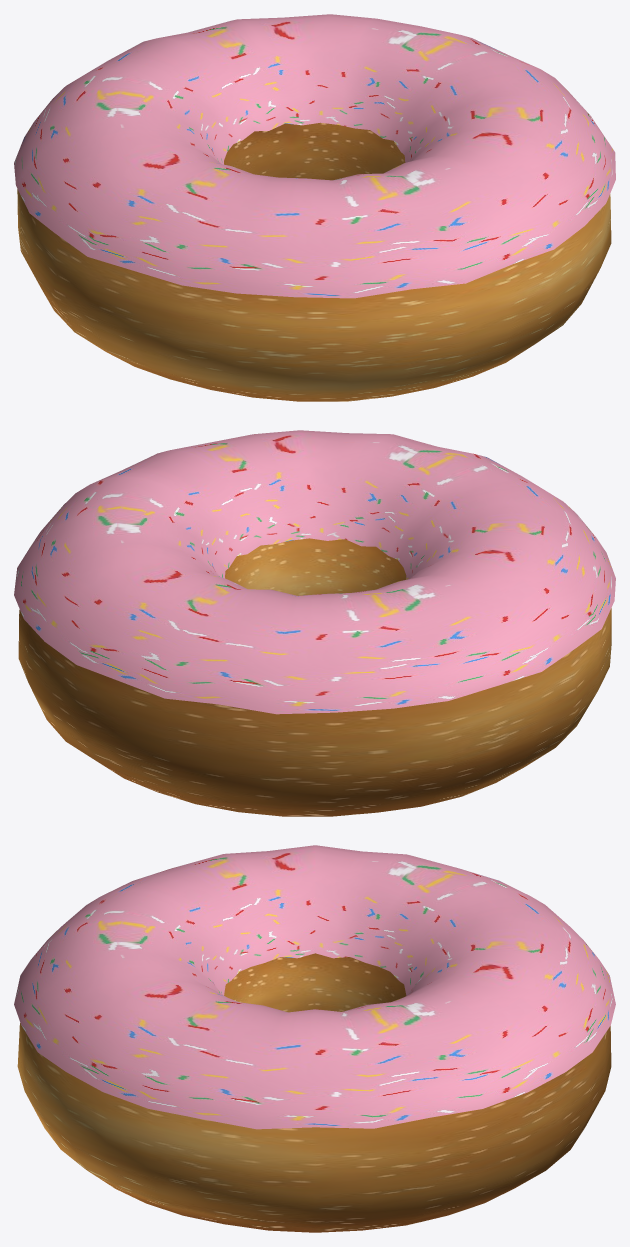
File: bakery_donut_pink_sprinkles.glb
The picture shows the model from 3 angles, top to bottom: view 1: azimuth 30°, elevation 25°; view 2: azimuth 150°, elevation 25°; view 3: azimuth 270°, elevation 25°; orthographic projection.
Parts seen in each view (by area): view 1: bakery_donut_pink_sprinkles; view 2: bakery_donut_pink_sprinkles; view 3: bakery_donut_pink_sprinkles.
Part boxes in pixels (x1=…): bakery_donut_pink_sprinkles: x1=14, y1=14, x2=615, y2=401; bakery_donut_pink_sprinkles: x1=14, y1=430, x2=615, y2=816; bakery_donut_pink_sprinkles: x1=14, y1=845, x2=615, y2=1232.
Size of the model in its own units: 0.0996 by 0.0373 by 0.0997.
2 materials, 2 textured.
